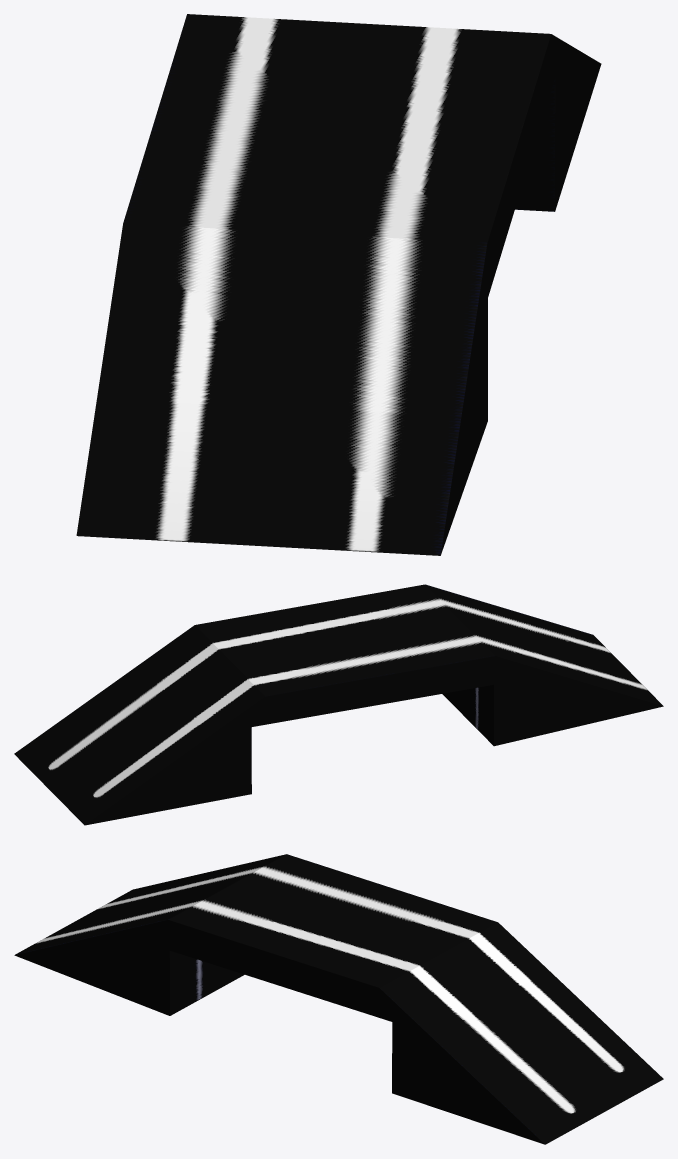
File: infiniteBridge.gltf
3 renders of one model, top to bottom at view 1: azimuth 30°, elevation 25°; view 2: azimuth 150°, elevation 25°; view 3: azimuth 270°, elevation 25°, orthographic. The views are drawn at different scales.
Size of the model in its own units: 0.8419 by 0.1711 by 0.9753.
Materials: 1 (1 with a texture image).
